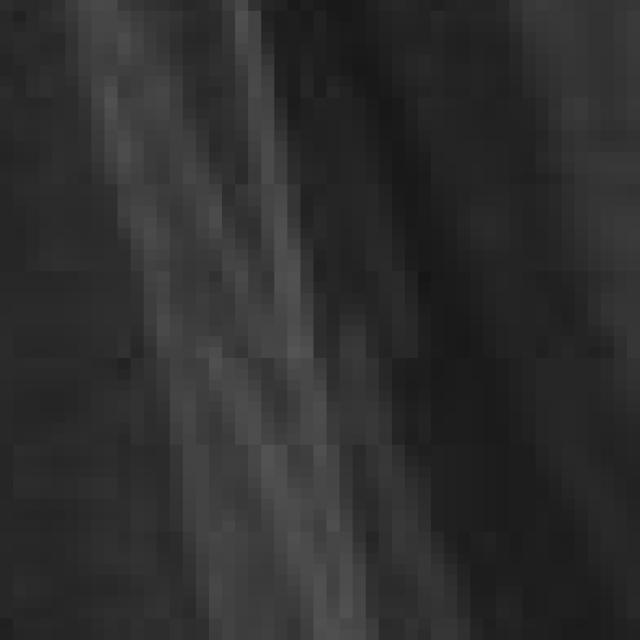fracture: (3, 7, 640, 640)
